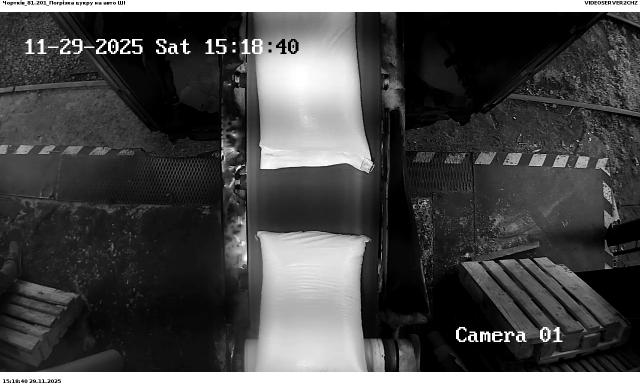bag: (252, 12, 373, 173), (256, 231, 374, 373)
